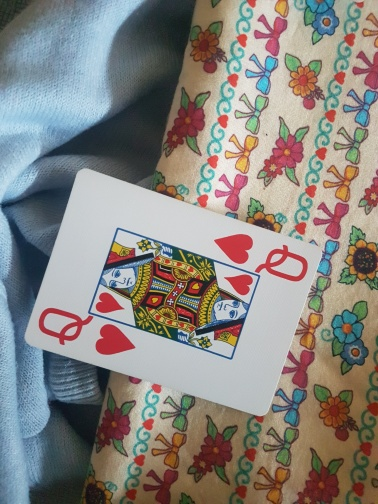queen: (25, 167, 320, 417)
